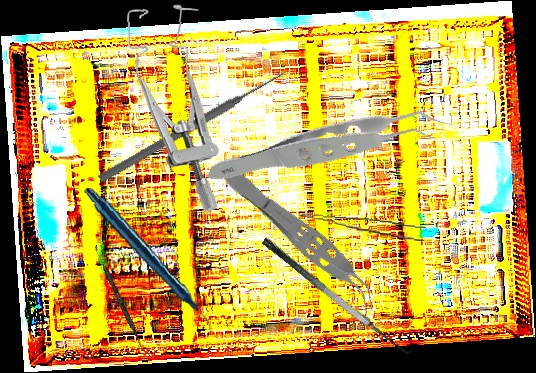Handpiece: (83, 176, 214, 347)
Pusher: (96, 67, 288, 186)
Spatula Surgical: (260, 224, 419, 364), (90, 244, 148, 352)
Speculum: (126, 2, 220, 214)
Tissue Forceps: (207, 54, 453, 247), (213, 158, 389, 317), (298, 212, 428, 242)
